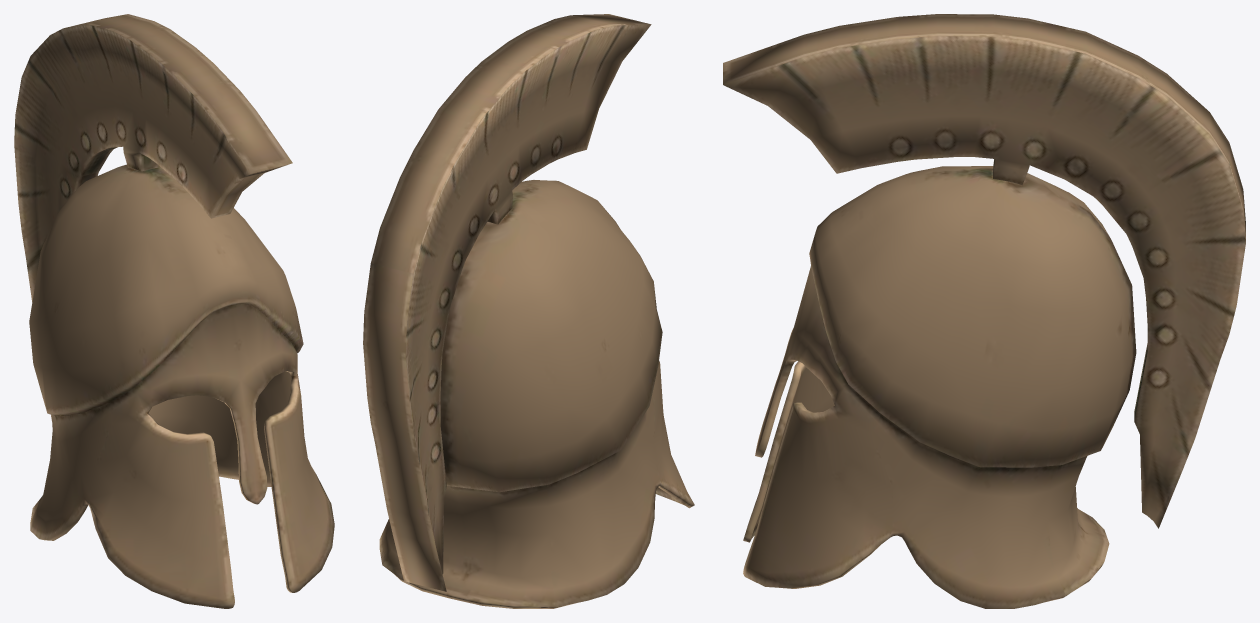
The model's file is elmo.glb.
3 views of the same model, side by side, from view 1: azimuth 30°, elevation 25°; view 2: azimuth 150°, elevation 25°; view 3: azimuth 270°, elevation 25° (orthographic). The views are drawn at different scales.
Parts seen in each view (by area): view 1: helmet_low__0; view 2: helmet_low__0; view 3: helmet_low__0.
Part boxes in pixels (<box>): helmet_low__0: <box>14,14,334,608</box>; helmet_low__0: <box>363,14,694,608</box>; helmet_low__0: <box>723,14,1245,608</box>.
Size of the model in its own units: 0.2183 by 0.4358 by 0.3871.
Materials: 1 (1 with a texture image).
